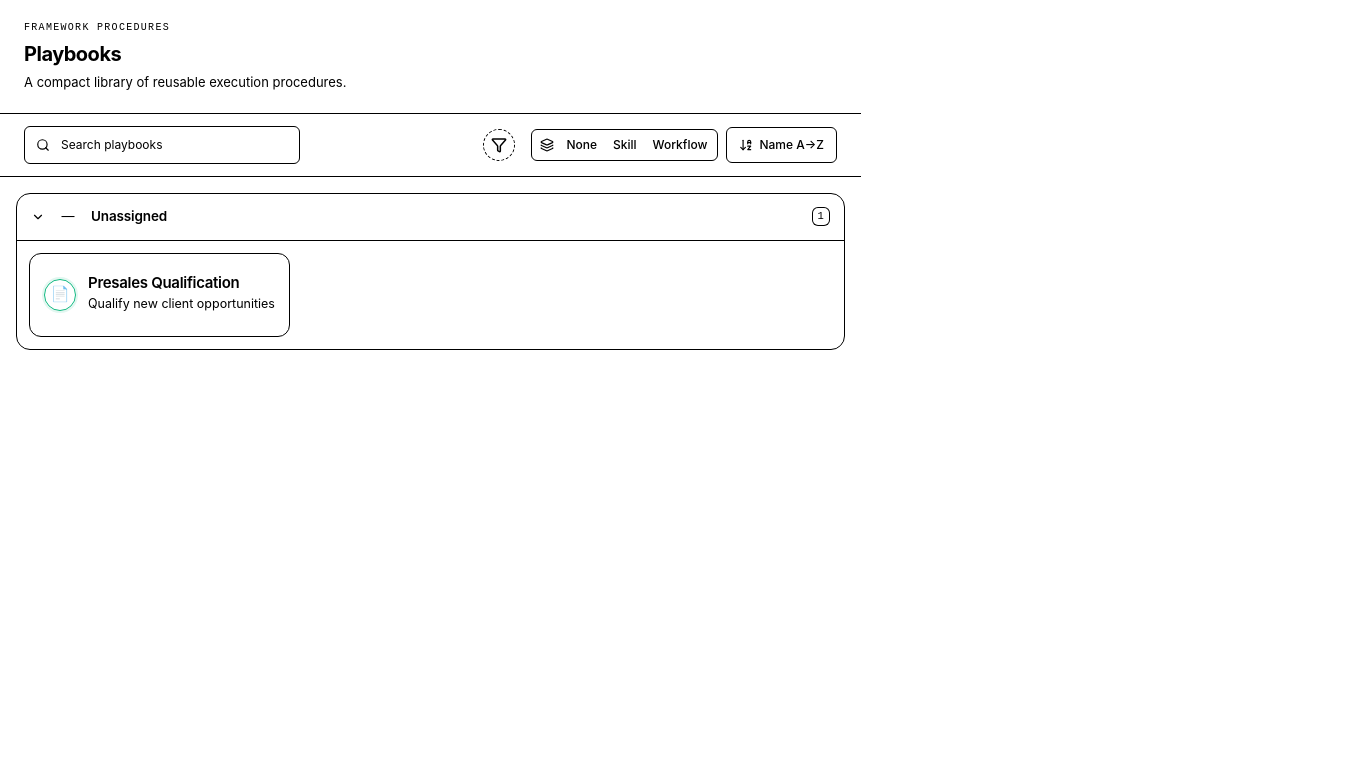
Test: FrameworkScreen — playbook type › renders playbook card grid and opens editor view on card click
Expected: the element with test id "framework-screen-playbook" is shown, [0,0,861,350]
Expected: the element with test id "framework-grid-playbook" is shown, [16,192,845,350]
Click the button with test id "framework-card-pb-presales" at (160, 294), box [29,252,290,336]
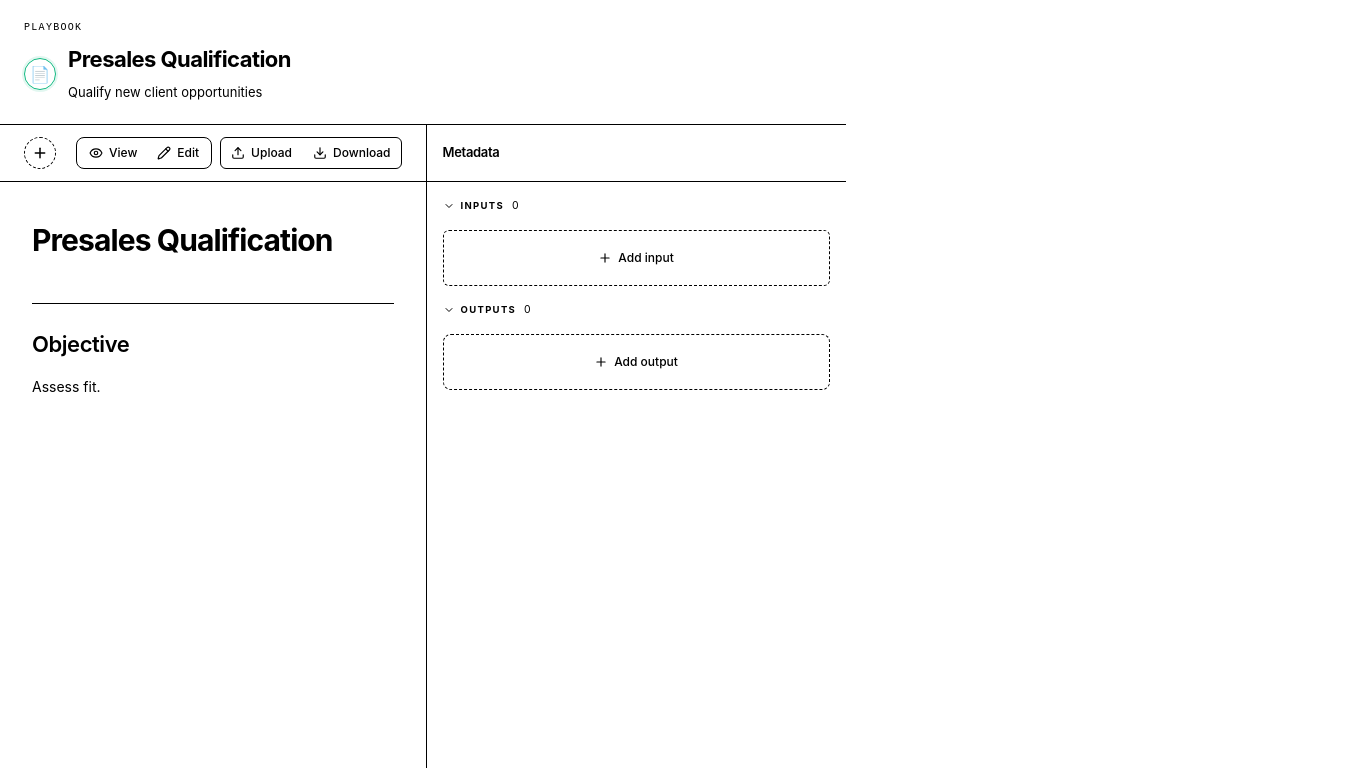
Expected: the element with test id "framework-markdown-preview-playbook" is shown, [32,222,394,395]
Click the tab "Edit" at (178, 153), box [147,140,209,166]
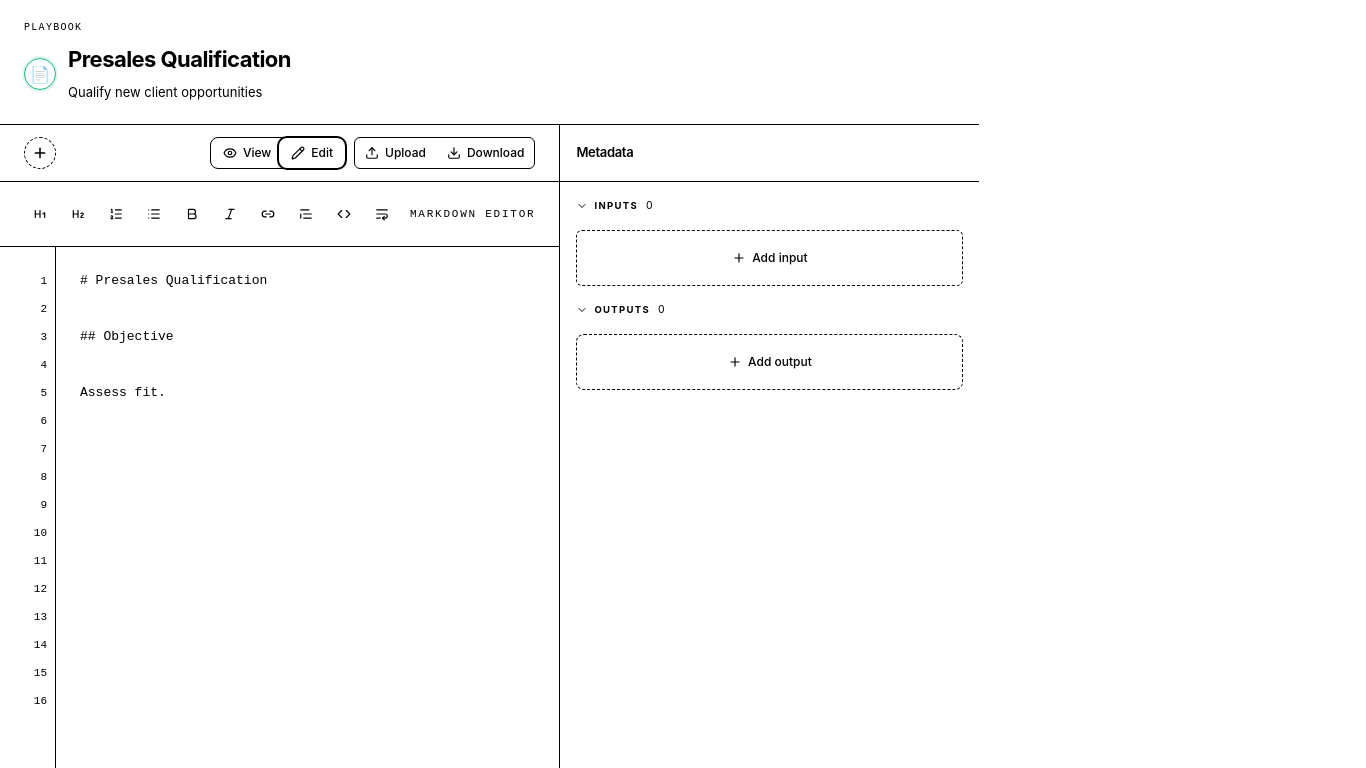
Expected: the text box with test id "framework-editor-playbook" is shown, [56,247,559,767]
